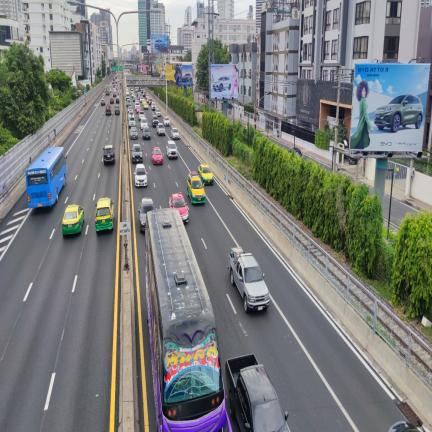bus: (146, 209, 230, 431), (26, 147, 66, 208)
car: (374, 94, 423, 132), (169, 192, 188, 222), (138, 197, 154, 232), (388, 421, 425, 431), (134, 163, 147, 185), (212, 76, 231, 91), (166, 140, 178, 158), (104, 145, 115, 164), (131, 143, 142, 162), (152, 147, 163, 164), (154, 39, 167, 52), (143, 126, 151, 139), (181, 73, 192, 82), (171, 128, 180, 139), (130, 127, 138, 139), (157, 123, 165, 135), (140, 117, 147, 130), (129, 117, 136, 128), (138, 111, 145, 121), (152, 115, 158, 126), (163, 116, 170, 125), (114, 104, 120, 114), (147, 98, 153, 107), (142, 100, 148, 109), (155, 108, 161, 116), (151, 103, 157, 110), (128, 107, 133, 115), (134, 100, 139, 106), (136, 106, 140, 113), (101, 99, 105, 105), (126, 91, 129, 98), (110, 98, 114, 103), (142, 93, 146, 98), (135, 87, 139, 92), (127, 100, 130, 106), (113, 91, 116, 97), (116, 97, 119, 103), (146, 97, 149, 103)
human: (350, 80, 373, 149), (230, 65, 238, 98)
taxi: (93, 197, 113, 232), (62, 205, 84, 235), (187, 172, 205, 203), (198, 164, 213, 184), (142, 101, 148, 109), (131, 92, 135, 101)
truck: (225, 354, 289, 431), (228, 247, 269, 313), (105, 105, 111, 115), (105, 86, 110, 94)
